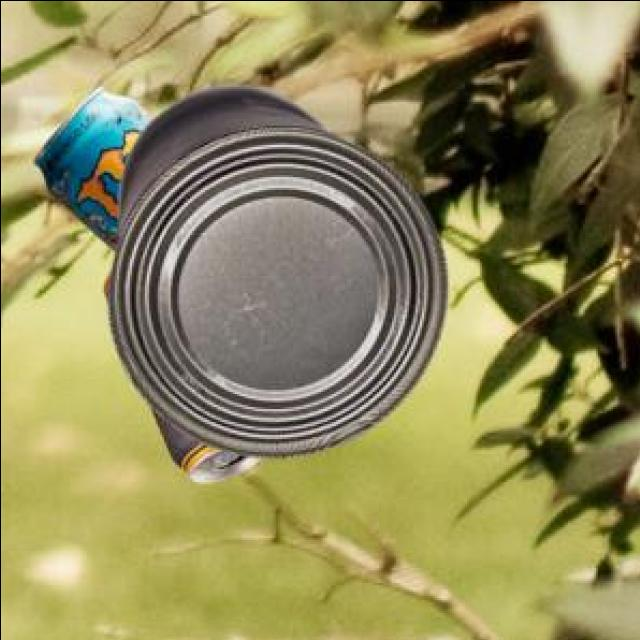logam: (104, 81, 443, 454), (31, 83, 151, 246), (149, 405, 259, 478)
